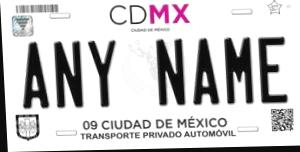License_Plate: (8, 0, 300, 148)
